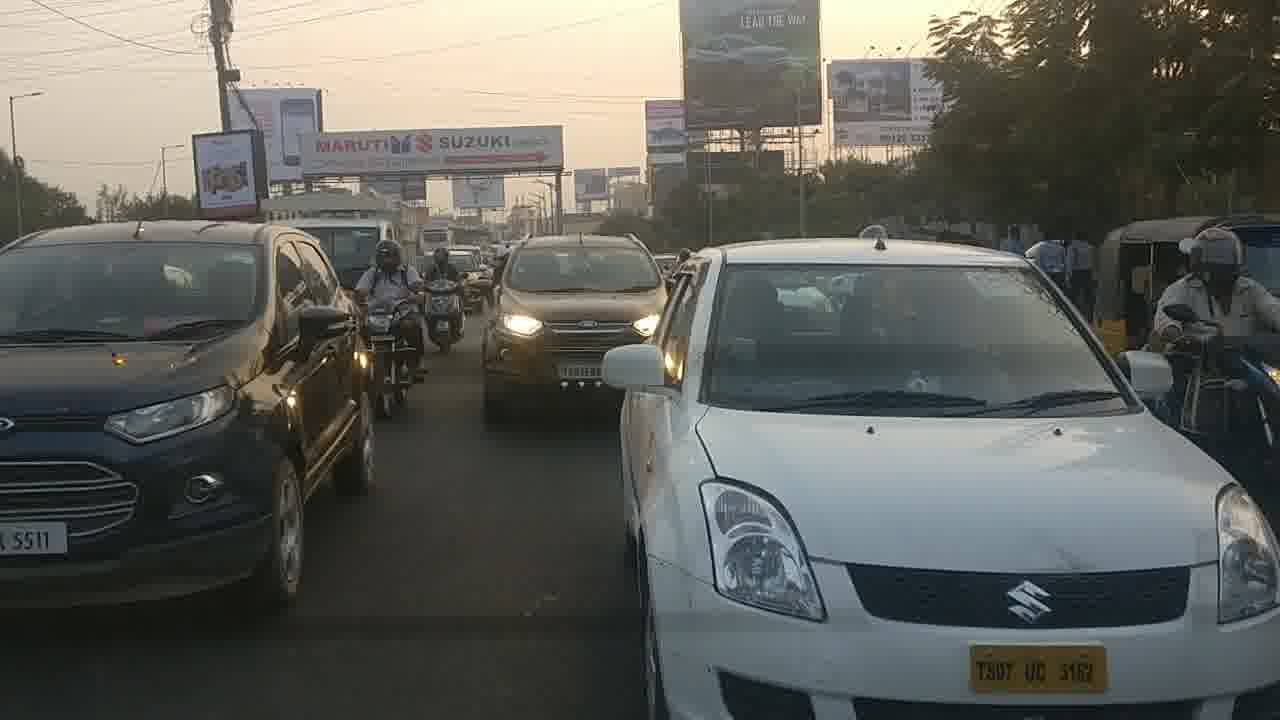swift desire: (626, 251, 1280, 717)
